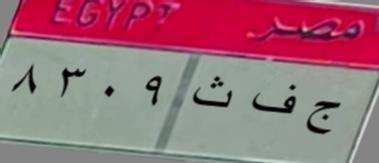0: (96, 78, 123, 104)
3: (52, 63, 89, 102)
8: (8, 60, 42, 102)
9: (138, 70, 170, 110)
faa: (248, 82, 299, 120)
jeem: (302, 90, 346, 140)
thaa: (189, 73, 234, 116)
